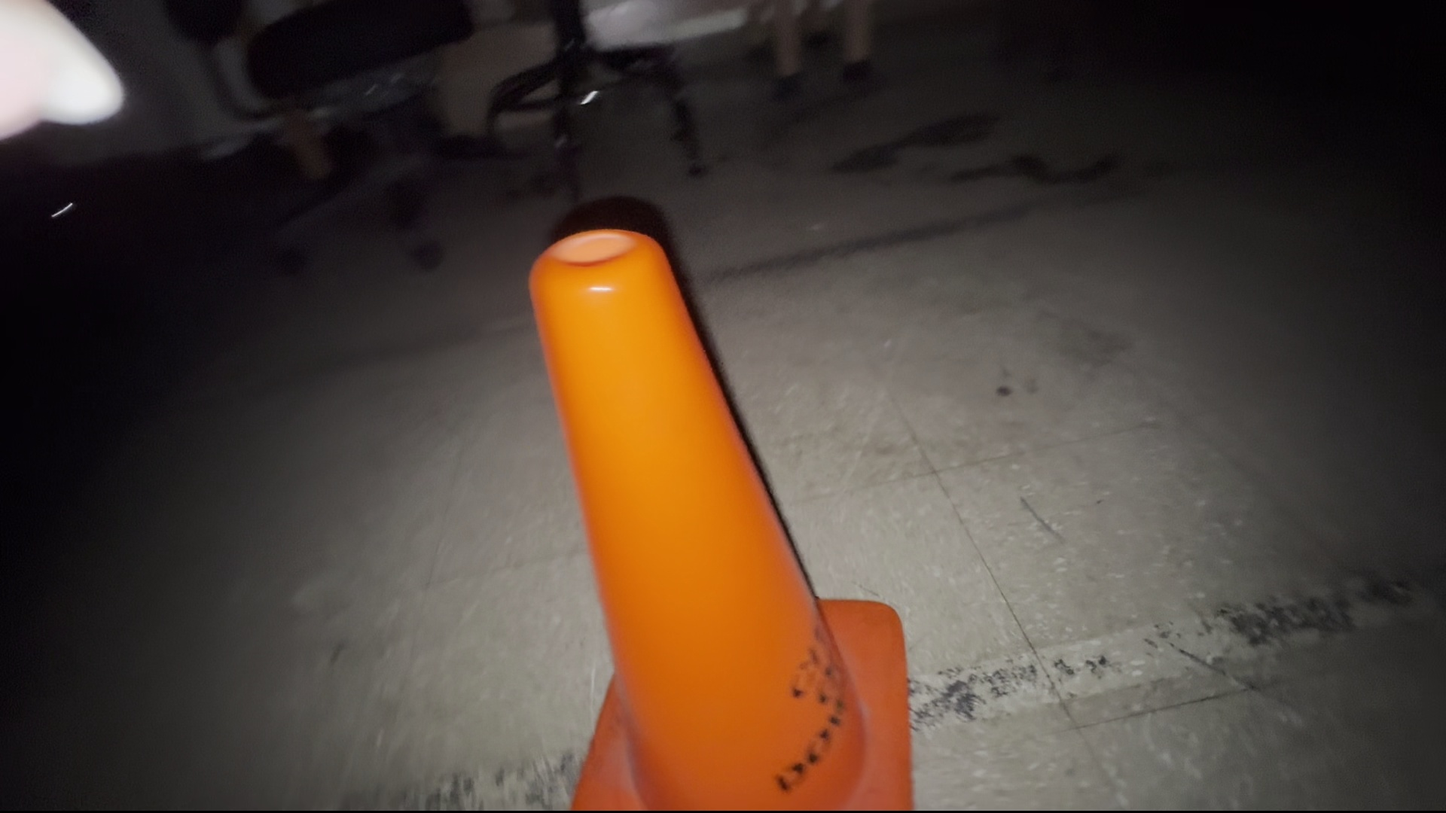traffic_cone: (527, 225, 914, 811)
